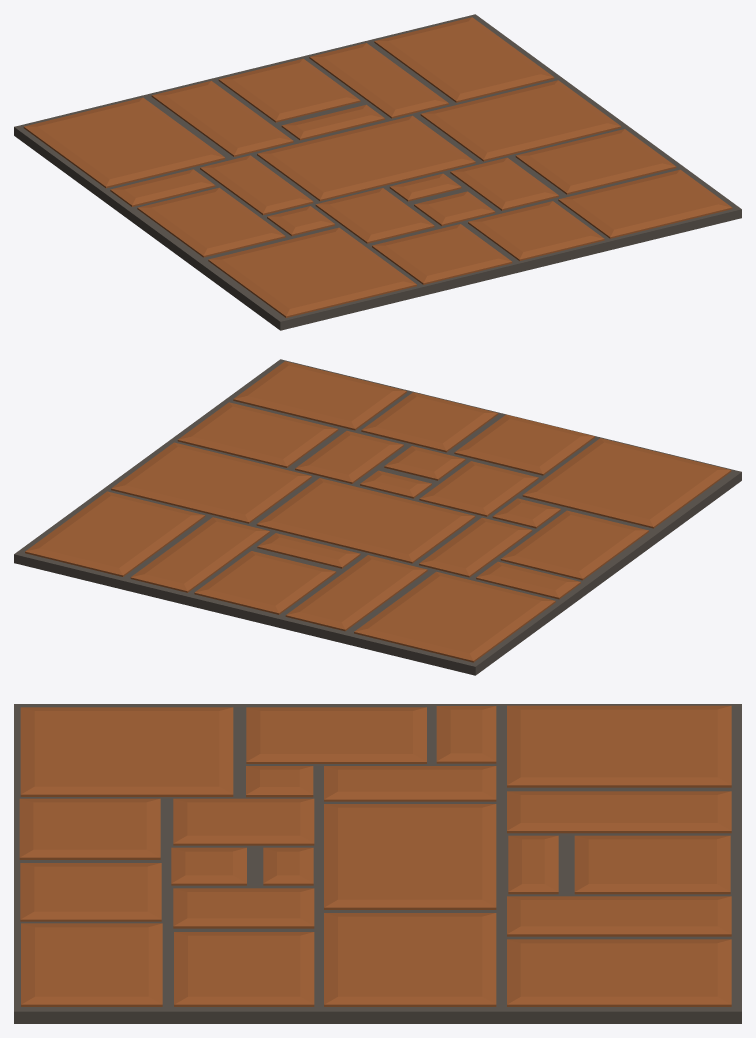
The model's file is floor.obj.
3 renders of one model, top to bottom at view 1: azimuth 30°, elevation 25°; view 2: azimuth 150°, elevation 25°; view 3: azimuth 270°, elevation 25°, orthographic. The views are drawn at different scales.
Visible parts, largest first — view 1: ModularFloor_Cube.000; view 2: ModularFloor_Cube.000; view 3: ModularFloor_Cube.000.
Boxes of the visible parts, bbox=[...] form: ModularFloor_Cube.000: bbox=[14, 14, 741, 330]; ModularFloor_Cube.000: bbox=[14, 359, 741, 675]; ModularFloor_Cube.000: bbox=[14, 704, 741, 1023].
Size of the model in its own units: 2 by 0.05 by 2.
